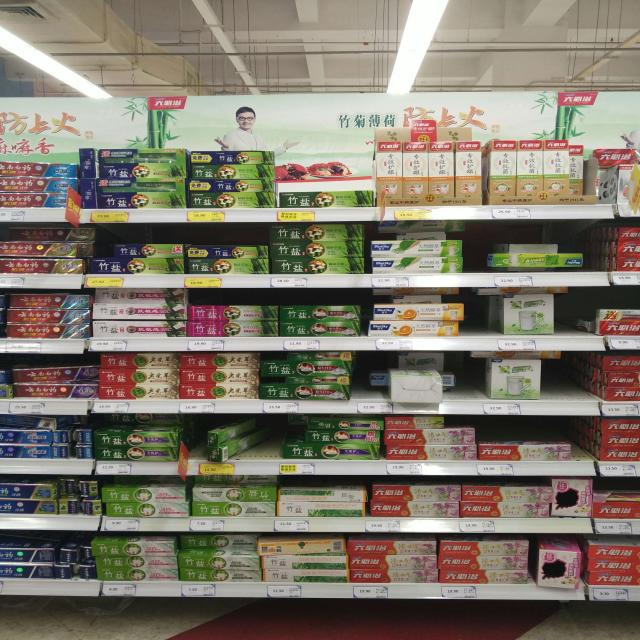void: (239, 416, 279, 474), (445, 358, 486, 414), (558, 295, 598, 349), (354, 351, 388, 413), (465, 296, 504, 350), (572, 363, 602, 415), (546, 360, 574, 414)
